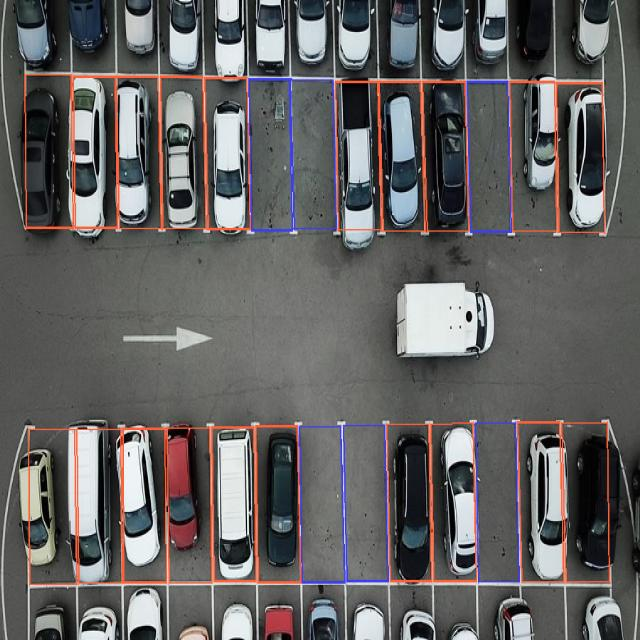space-empty: (342, 424, 390, 582), (290, 76, 339, 230), (476, 420, 521, 584), (298, 427, 345, 583), (464, 78, 512, 230), (247, 76, 293, 229), (523, 584, 567, 638)
space-occupied: (16, 423, 74, 582), (65, 426, 121, 584), (518, 420, 569, 586), (64, 72, 115, 230), (208, 424, 258, 580), (156, 73, 206, 229), (508, 80, 560, 230), (557, 78, 607, 233), (565, 420, 611, 584), (388, 424, 435, 584), (378, 78, 427, 230), (204, 76, 251, 230), (432, 422, 477, 582), (423, 78, 470, 230), (24, 64, 67, 230), (335, 78, 381, 230), (122, 432, 169, 580), (255, 426, 300, 580), (114, 78, 159, 224), (167, 427, 208, 585), (11, 0, 71, 73), (507, 0, 558, 82), (552, 0, 603, 81), (419, 0, 467, 81), (332, 0, 381, 78), (201, 0, 250, 78), (288, 0, 335, 78), (66, 0, 116, 73), (113, 0, 160, 76), (158, 0, 205, 76), (246, 0, 291, 78), (467, 0, 508, 85), (382, 0, 420, 85), (565, 584, 623, 638), (476, 584, 528, 638), (28, 584, 79, 638), (74, 584, 124, 638), (120, 584, 169, 638), (388, 582, 434, 639), (345, 582, 391, 639), (166, 584, 214, 638), (300, 584, 347, 638), (433, 584, 479, 638), (256, 584, 302, 638), (212, 584, 258, 638)
